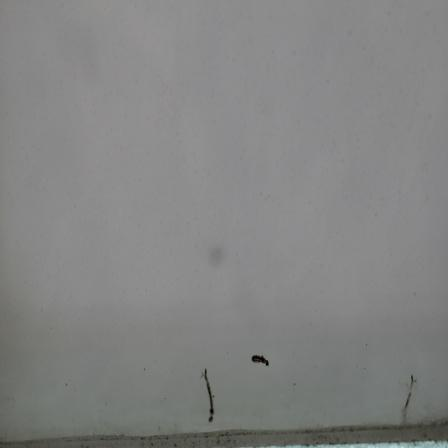Jentik-Nyamuk: (198, 363, 218, 424), (249, 348, 272, 372)
